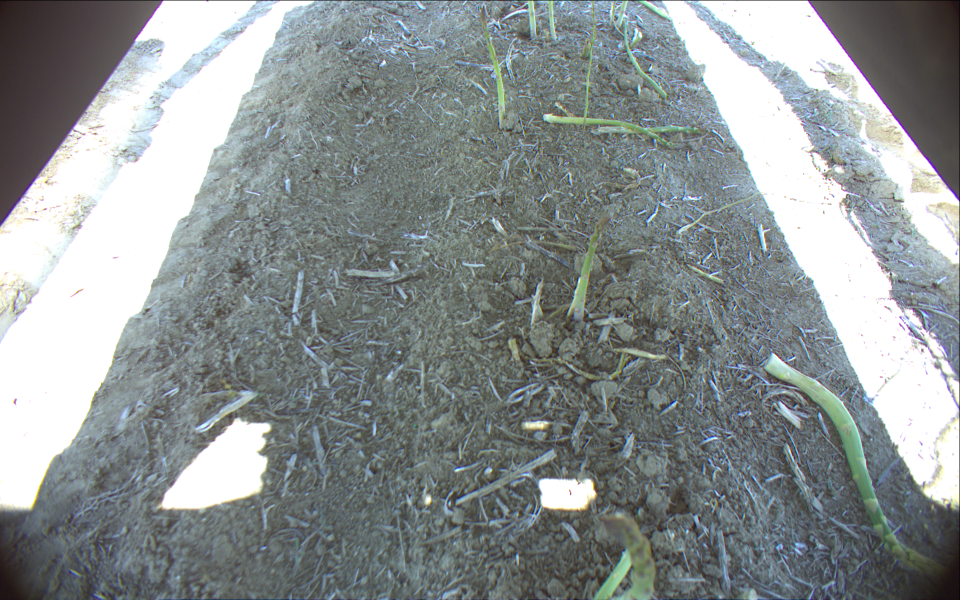aspa: (591, 498, 660, 600), (568, 215, 612, 329), (477, 4, 509, 129), (527, 1, 540, 44), (546, 1, 558, 45), (615, 1, 629, 33), (605, 1, 618, 27)
